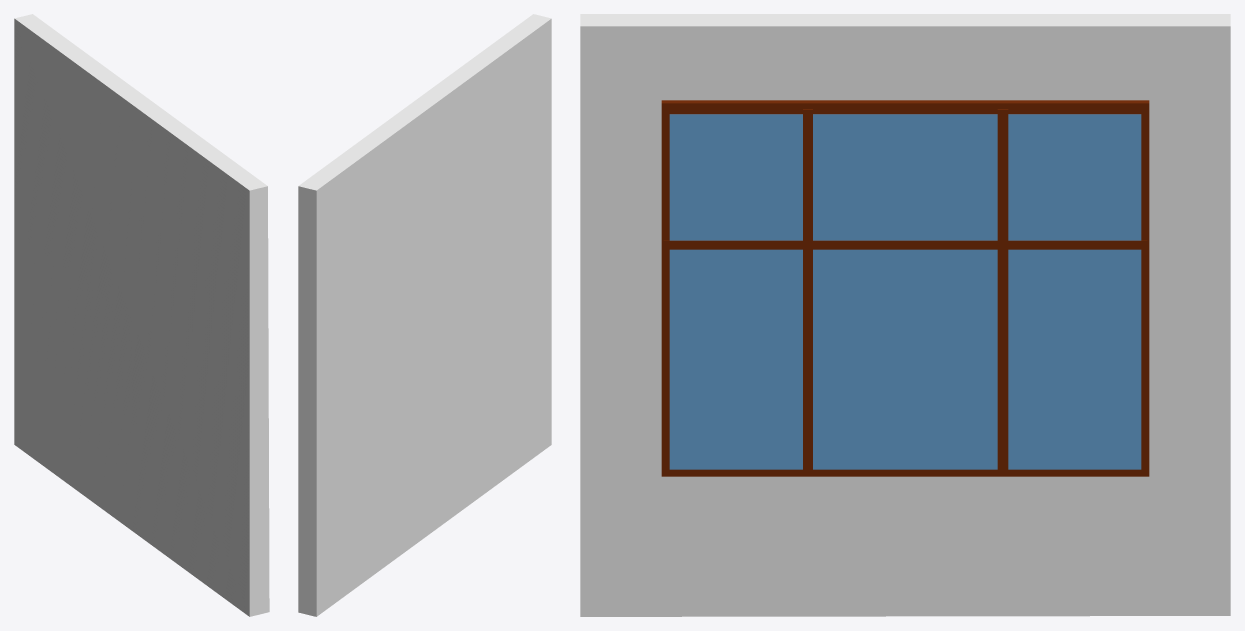
File: window.fbx
The picture shows the model from 3 angles, left to right: view 1: azimuth 30°, elevation 25°; view 2: azimuth 150°, elevation 25°; view 3: azimuth 270°, elevation 25°; orthographic projection. The views are drawn at different scales.
Parts seen in each view (by area): view 1: Cube.010; view 2: Cube.010; view 3: Cube.010, Cube, Cube.001, Cube.004, Cube.002, Cube.003.
Boxes of the visible parts, <box> form: Cube.010: <box>14,14,269,616</box>; Cube.010: <box>298,14,551,616</box>; Cube.010: <box>580,14,1230,616</box>; Cube: <box>669,114,1141,469</box>; Cube.001: <box>661,100,1149,476</box>; Cube.004: <box>663,240,1147,249</box>; Cube.002: <box>997,109,1008,473</box>; Cube.003: <box>803,109,812,473</box>.
Bounding box in the file's own units: 11.72 × 200 × 200.
